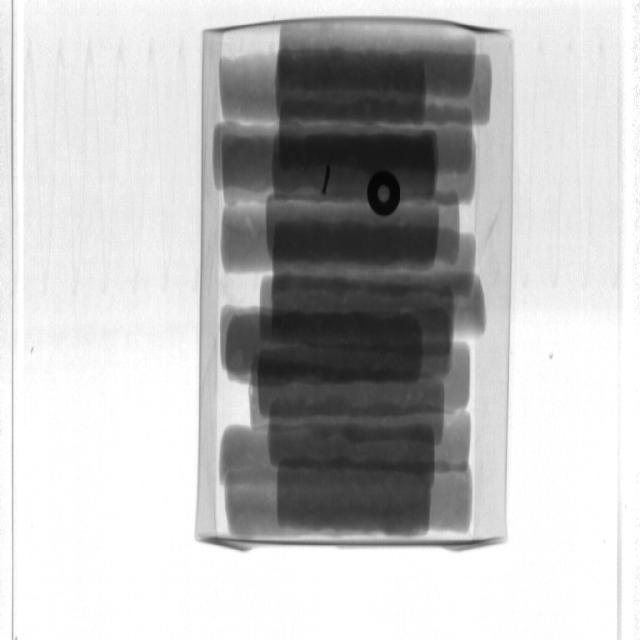ym: (369, 170, 401, 217), (322, 164, 332, 194)
